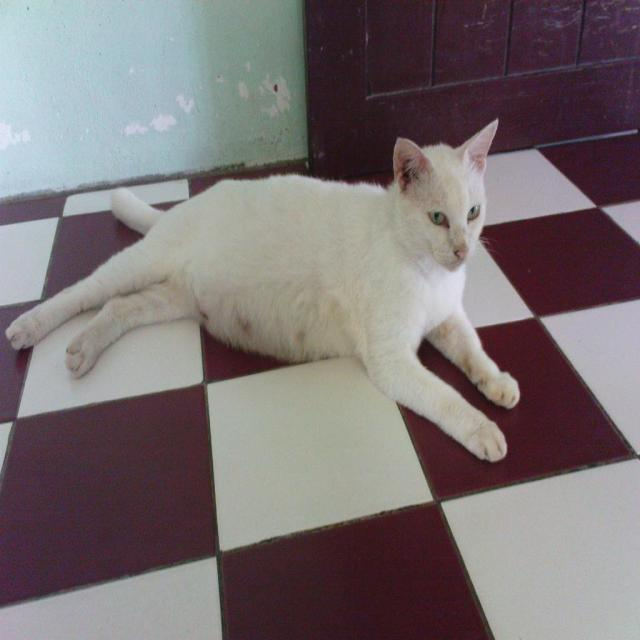Cat: (7, 116, 522, 462)
